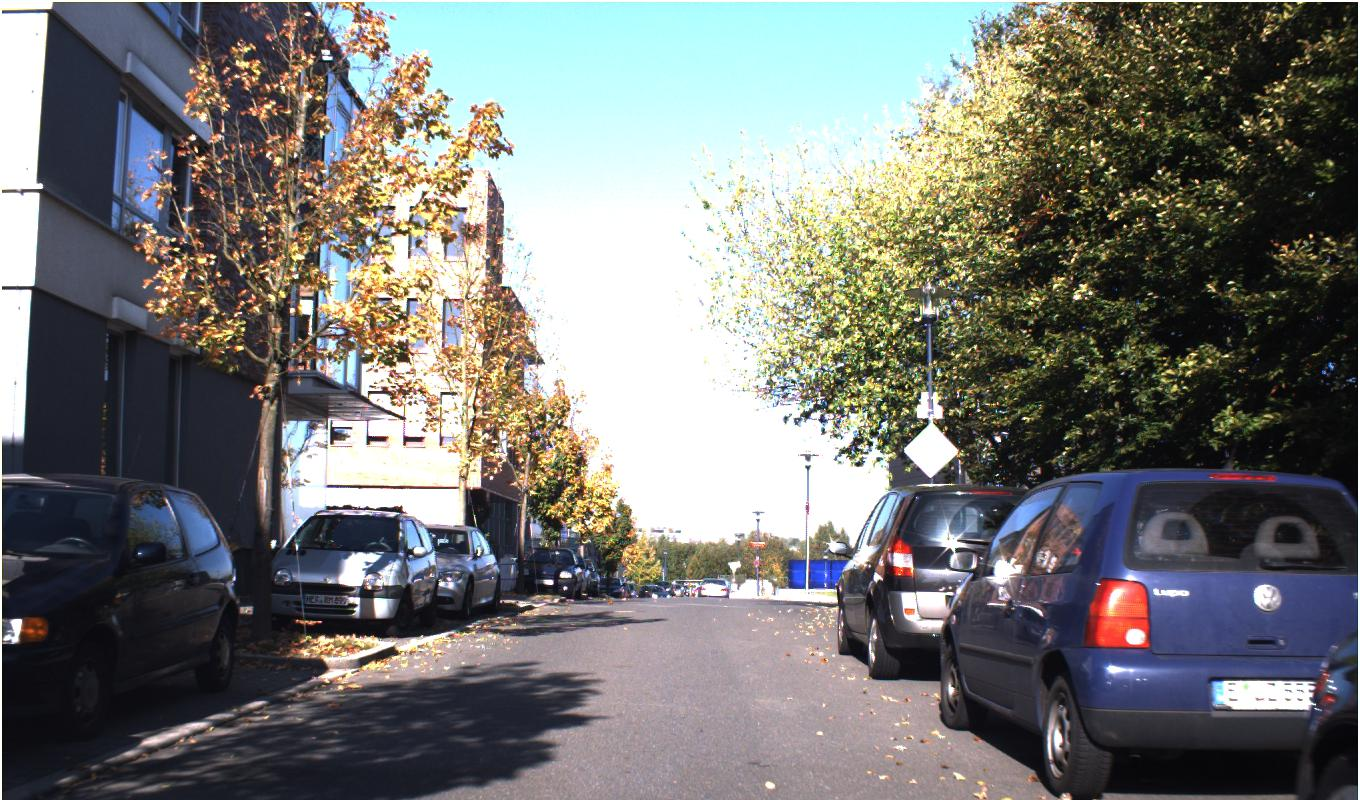sign: (901, 421, 959, 478)
